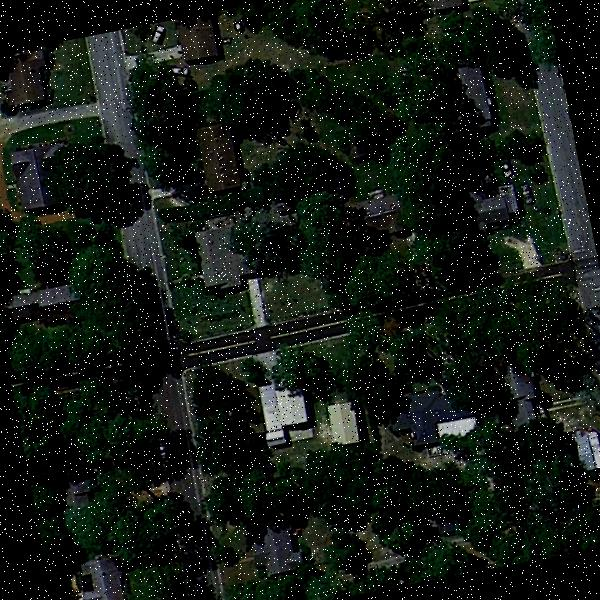Buildings: (189, 216, 256, 290), (8, 136, 66, 212), (0, 44, 55, 108), (8, 276, 68, 327), (258, 382, 310, 438), (403, 392, 464, 438), (353, 196, 406, 238), (452, 72, 494, 123), (254, 534, 303, 574), (176, 13, 220, 57), (476, 188, 518, 228), (81, 558, 118, 600), (419, 0, 466, 11)
